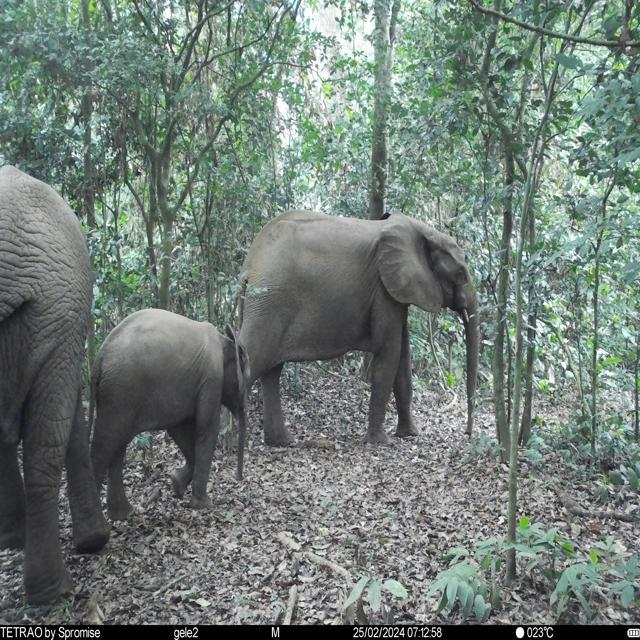calf: (85, 307, 250, 524)
ear: (376, 213, 444, 314)
elephant: (230, 208, 482, 450), (0, 159, 110, 607)
tusk: (461, 308, 470, 324)
